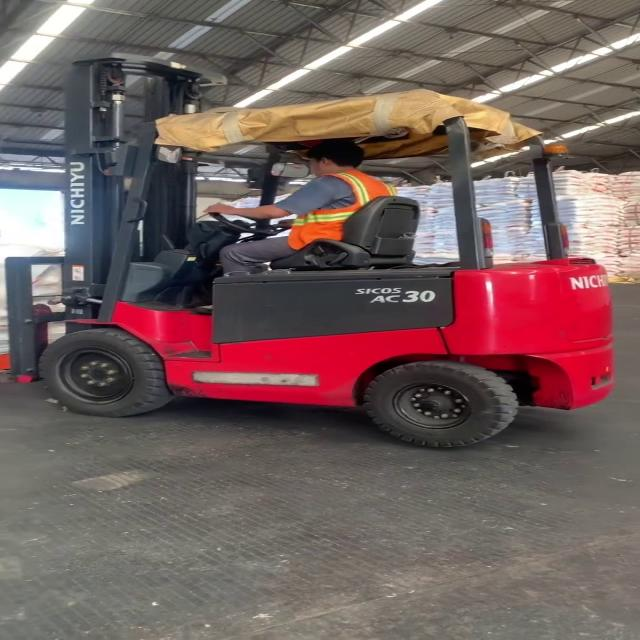ForkLift: (23, 47, 622, 450)
